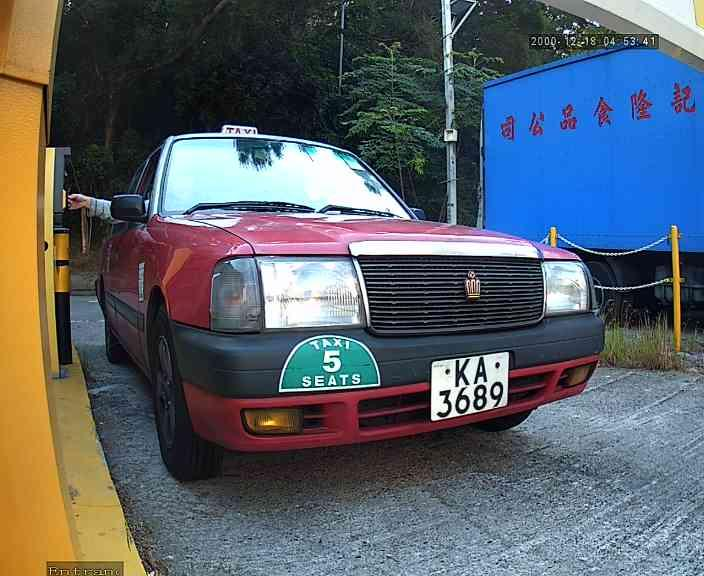Car: (76, 16, 620, 505)
License Plate: (422, 350, 513, 425)
